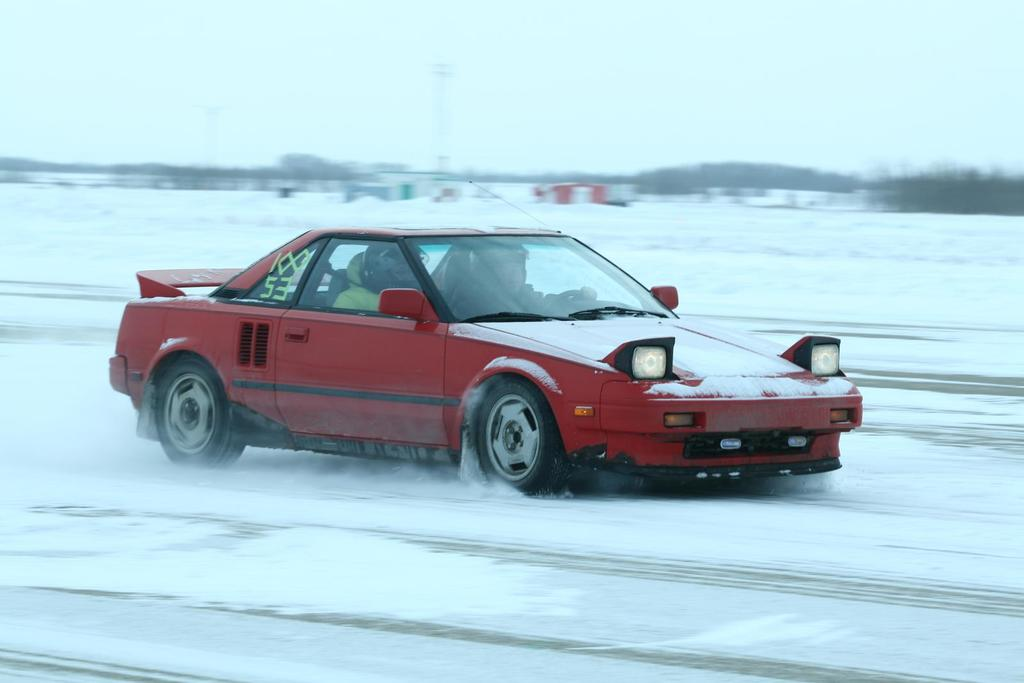car: (86, 156, 890, 528)
